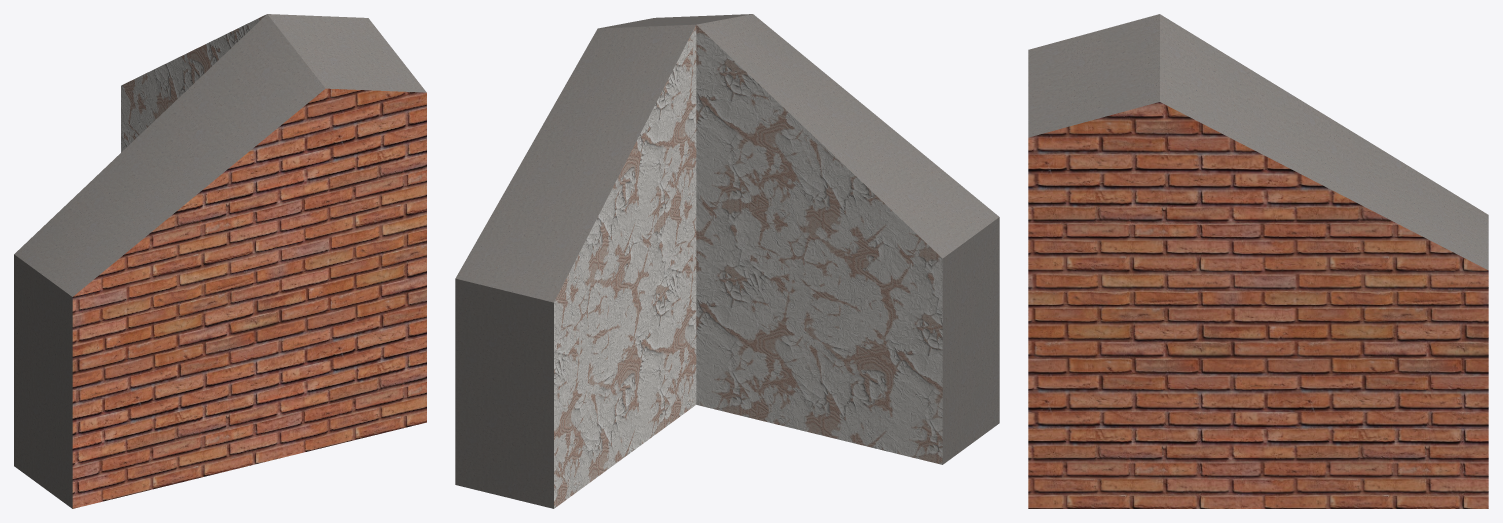
Rendered from House6Ruins90.fbx.
3 renders of one model, left to right at view 1: azimuth 30°, elevation 25°; view 2: azimuth 150°, elevation 25°; view 3: azimuth 270°, elevation 25°, orthographic. The views are drawn at different scales.
Parts seen in each view (by area): view 1: Exterior, Top, House6Ruins90; view 2: House6Ruins90, Top; view 3: Exterior, Top.
Part boxes in pixels (box(x1,y1,x2,y2)): Exterior: box(72, 88, 426, 508); Top: box(14, 14, 426, 508); House6Ruins90: box(121, 14, 266, 152); House6Ruins90: box(554, 25, 942, 508); Top: box(455, 14, 999, 508); Exterior: box(1028, 102, 1488, 508); Top: box(1028, 14, 1488, 270).
Size of the model in its own units: 1.75 by 1.84 by 1.75.
Materials: 3 (3 with a texture image).
